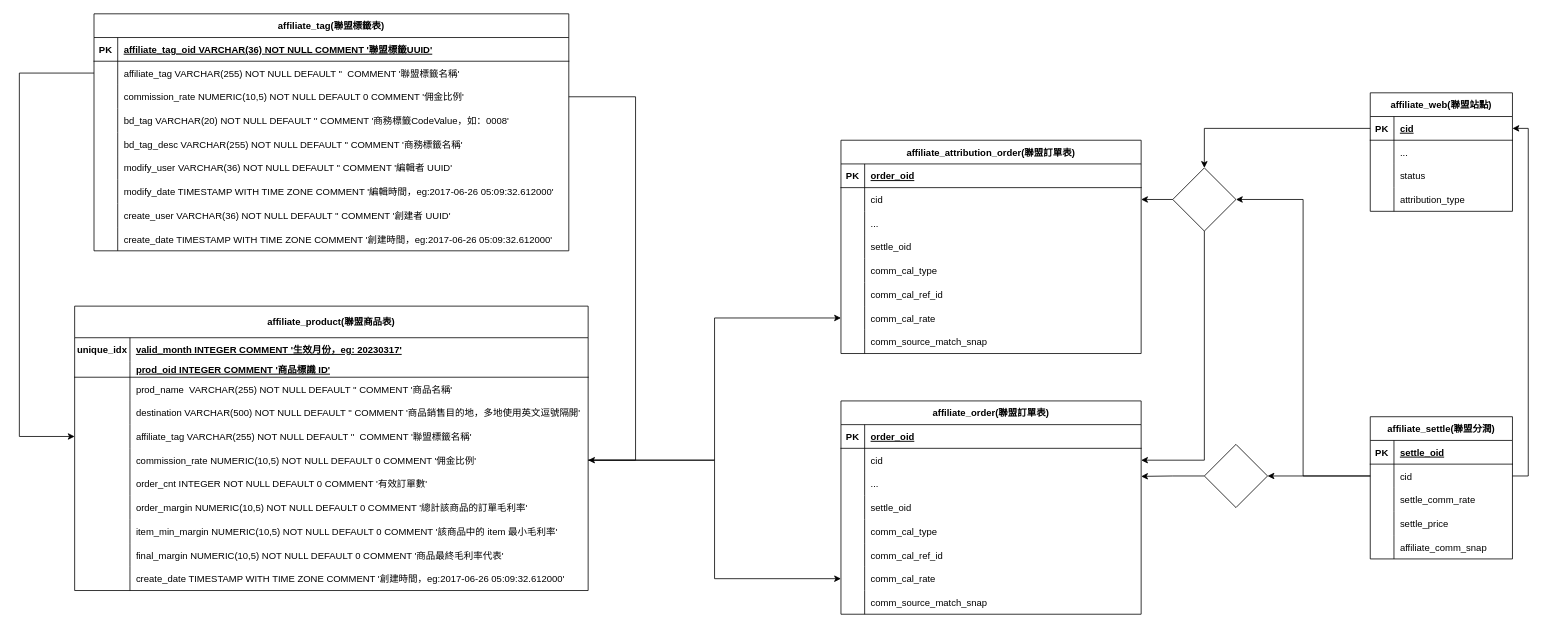
This 1548x628 diagram has some shape labels left out. The centre of each missing label's shape, as x and y in pixels:
DDA: pixel 1204 199
LAST: pixel 1236 476
